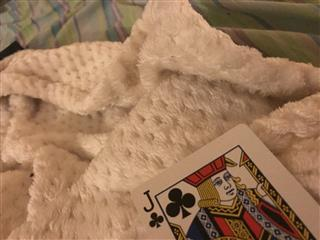JackOfClubs: (130, 123, 320, 240)
